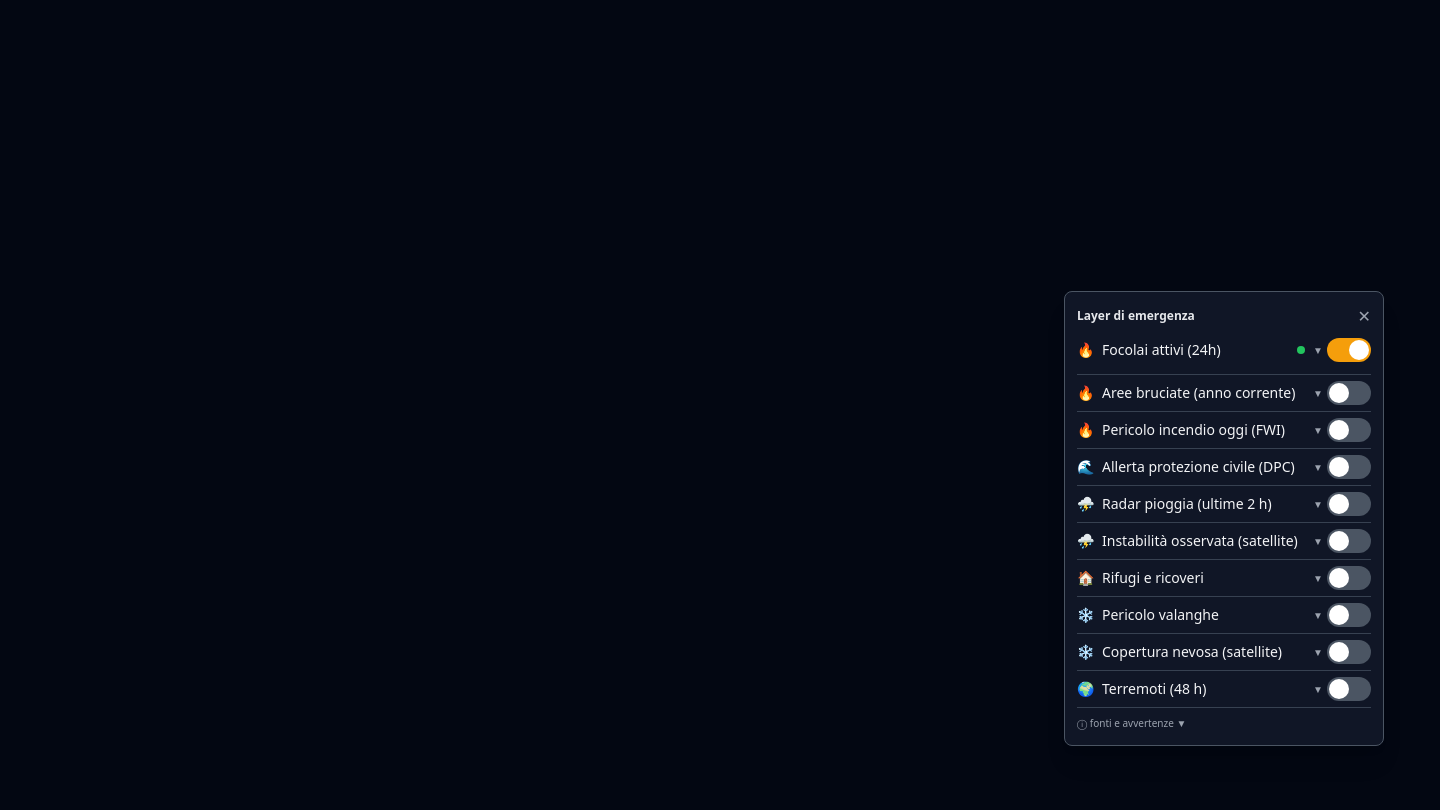
Test: l eta vera dei dati satellitari › il dettaglio dice la finestra dei passaggi e l eta del piu recente
The image size is (1440, 810).
Click the button "🔥 Focolai attivi (24h) ▼". click: (1200, 350)
box: [1077,332,1323,368]
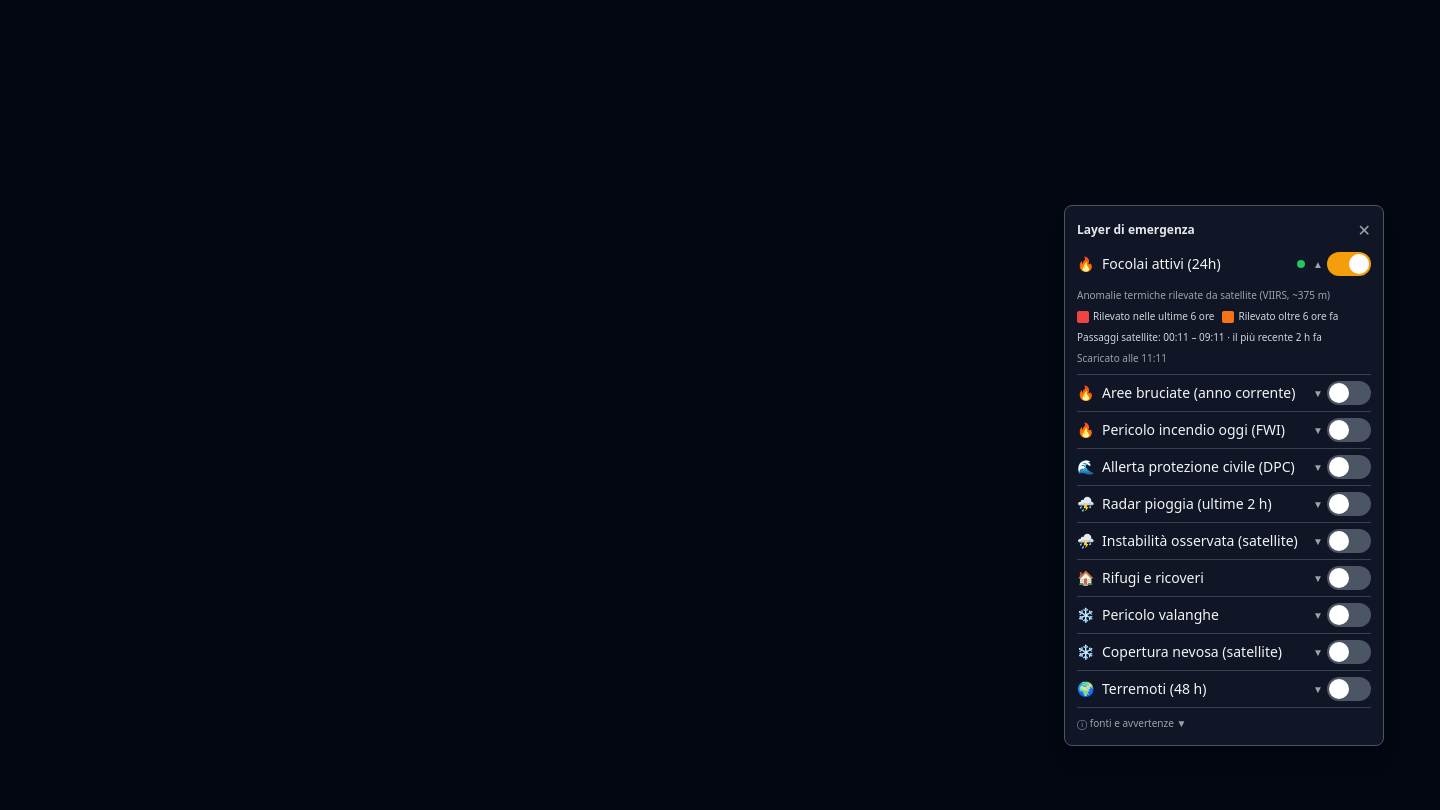
Check: the text "Passaggi satellite: 00:11 – 09:11 · il più recente 2 h fa" is shown, box [1077,330,1322,344]
